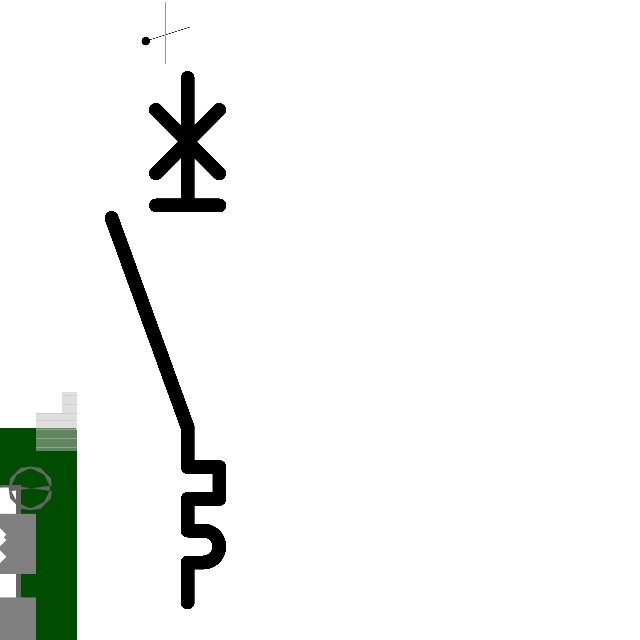interruptor_termomagnetico: (98, 64, 233, 615)
